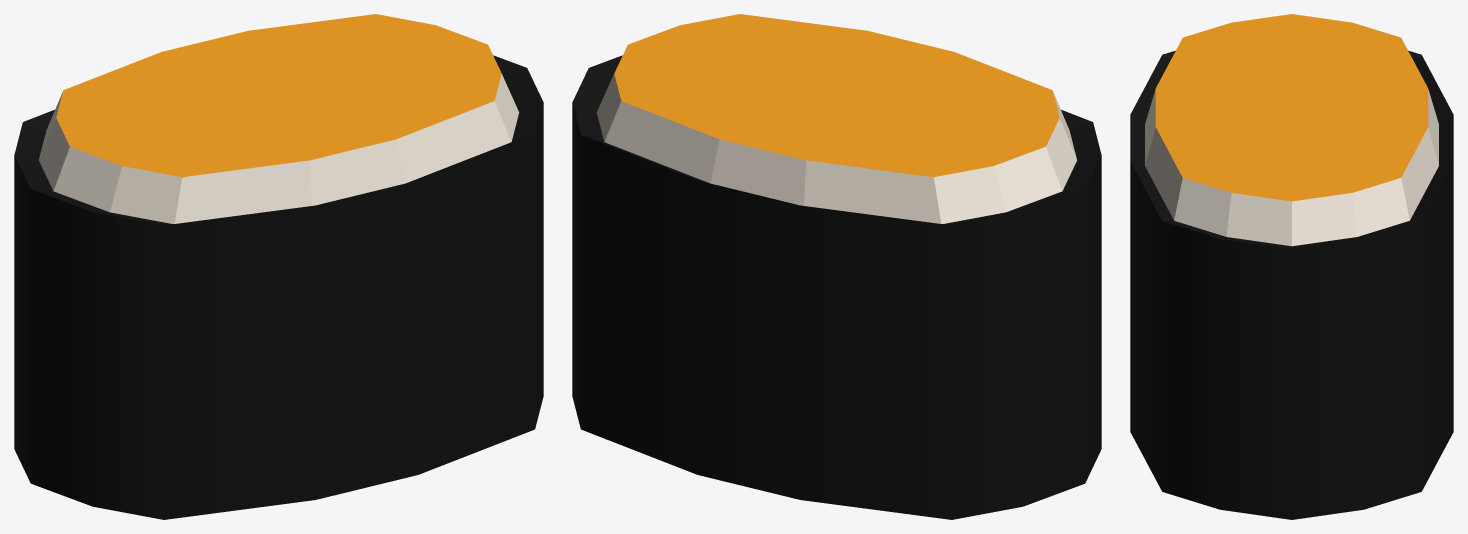
The model's file is Sushi_orange.fbx.
3 renders of one model, left to right at view 1: azimuth 30°, elevation 25°; view 2: azimuth 150°, elevation 25°; view 3: azimuth 270°, elevation 25°, orthographic. The views are drawn at different scales.
Parts seen in each view (by area): view 1: pCylinder1; view 2: pCylinder1; view 3: pCylinder1.
Boxes of the visible parts, left/top/right/bottom form: pCylinder1: left=14, top=14, right=543, bottom=519; pCylinder1: left=572, top=14, right=1101, bottom=519; pCylinder1: left=1130, top=14, right=1453, bottom=519.
Size of the model in its own units: 29.73 by 18.73 by 18.26.
